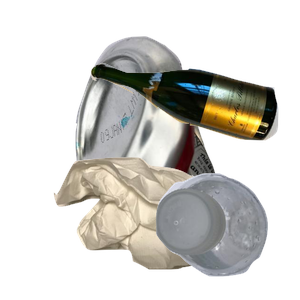glass: (88, 60, 300, 193)
metal: (73, 34, 285, 214)
plastic: (153, 170, 300, 300)
trash: (51, 155, 261, 300)
